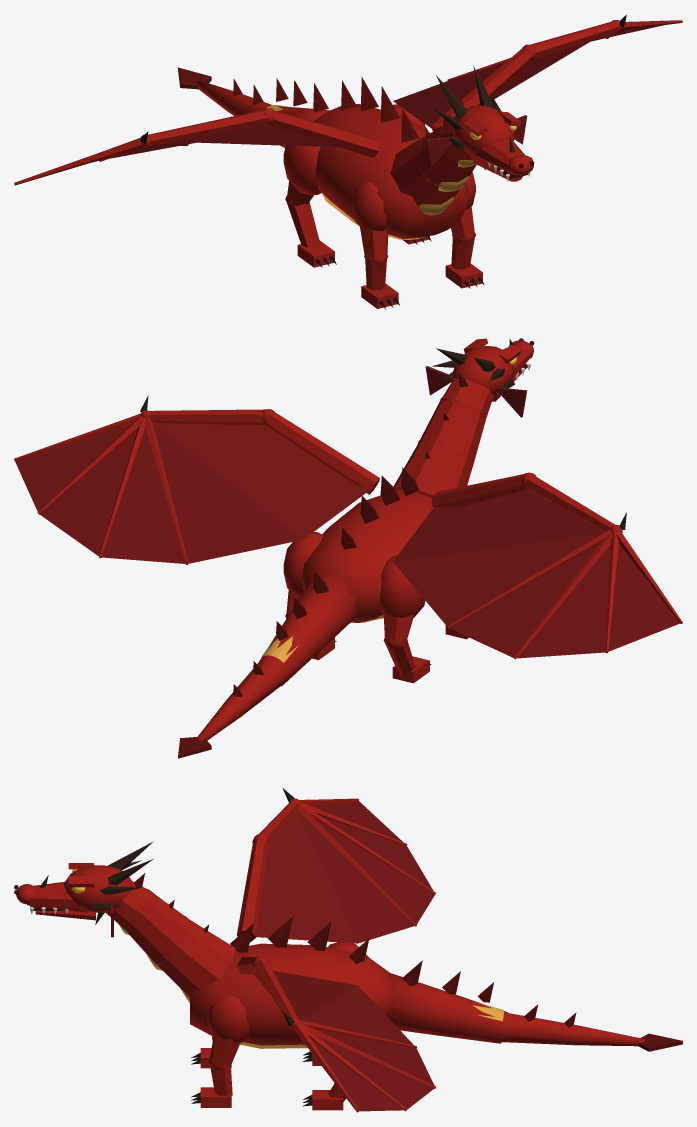
File: wyrm.glb
3 renders of one model, top to bottom at view 1: azimuth 30°, elevation 25°; view 2: azimuth 150°, elevation 25°; view 3: azimuth 270°, elevation 25°, orthographic. The views are drawn at different scales.
Visible parts, largest first — view 1: Body, WingL, WingR, Head, LegBL, LegFL, LegFR, TailTip, Tail; view 2: WingR, WingL, Body, Tail, Head, LegBL, TailTip, LegBR; view 3: WingL, Body, WingR, Tail, Head, TailTip, LegFR, LegBR.
Part boxes in pixels (bbox=[...]): Body: bbox=[314, 77, 476, 239]; WingL: bbox=[14, 108, 379, 185]; WingR: bbox=[393, 15, 682, 131]; Head: bbox=[425, 66, 534, 181]; LegBL: bbox=[283, 145, 336, 267]; LegFL: bbox=[352, 182, 399, 309]; LegFR: bbox=[445, 172, 484, 288]; TailTip: bbox=[178, 67, 272, 115]; Tail: bbox=[263, 78, 329, 147]; WingR: bbox=[14, 395, 379, 564]; WingL: bbox=[393, 472, 682, 659]; Body: bbox=[302, 374, 493, 622]; Tail: bbox=[259, 571, 358, 686]; Head: bbox=[425, 338, 534, 417]; LegBL: bbox=[380, 555, 431, 683]; TailTip: bbox=[178, 659, 286, 758]; LegBR: bbox=[283, 532, 336, 660]; WingL: bbox=[237, 788, 435, 943]; Body: bbox=[105, 873, 393, 1048]; WingR: bbox=[237, 956, 435, 1112]; Tail: bbox=[387, 960, 508, 1043]; Head: bbox=[14, 841, 153, 937]; TailTip: bbox=[494, 1004, 682, 1051]; LegFR: bbox=[191, 995, 249, 1107]; LegBR: bbox=[302, 1083, 346, 1110].
Bounding box in the file's own units: 7.61 × 2.65 × 6.9.
